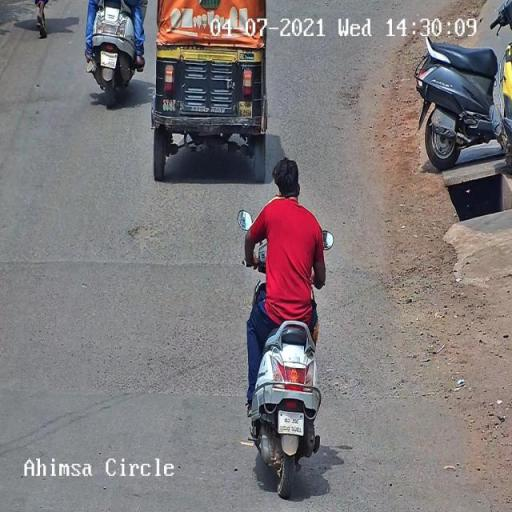using mobile: (270, 189, 286, 199)
